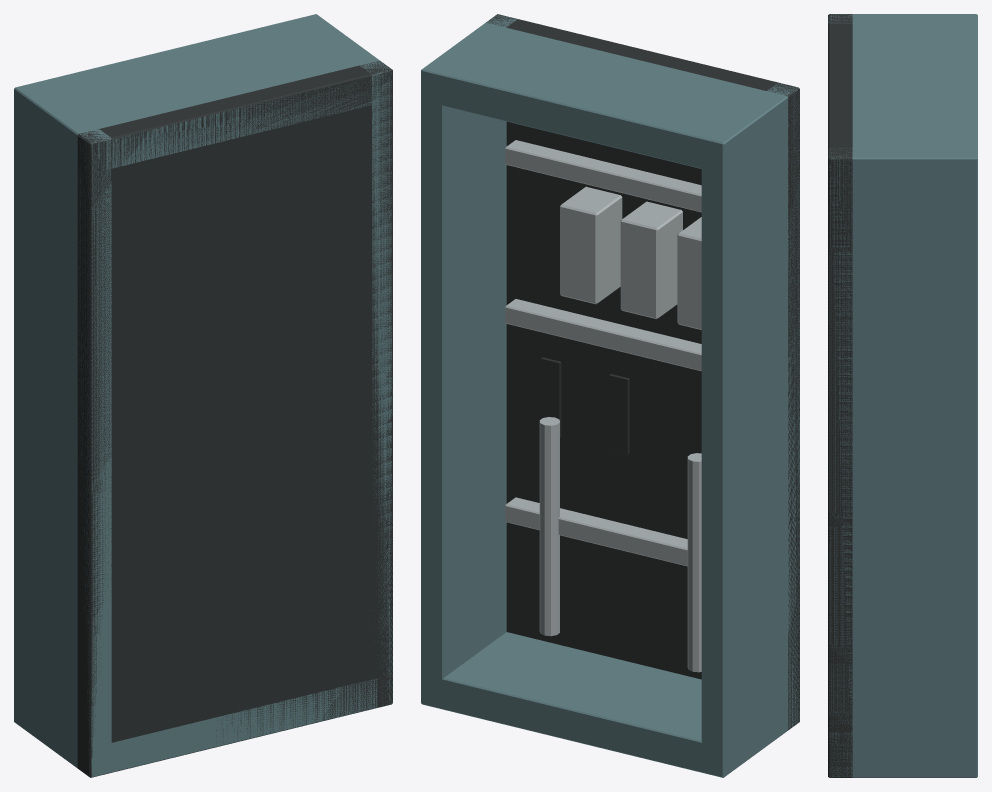
The model's file is maintenance_panel_1m.glb.
3 renders of one model, left to right at view 1: azimuth 30°, elevation 25°; view 2: azimuth 150°, elevation 25°; view 3: azimuth 270°, elevation 25°, orthographic. The views are drawn at different scales.
Parts seen in each view (by area): view 1: maintenance_panel_1m; view 2: maintenance_panel_1m; view 3: maintenance_panel_1m.
Part boxes in pixels (x1,y1,x2,y2): maintenance_panel_1m: (14,14,392,777); maintenance_panel_1m: (421,14,799,777); maintenance_panel_1m: (828,14,977,777).
Size of the model in its own units: 0.8 by 1.6 by 0.35.
